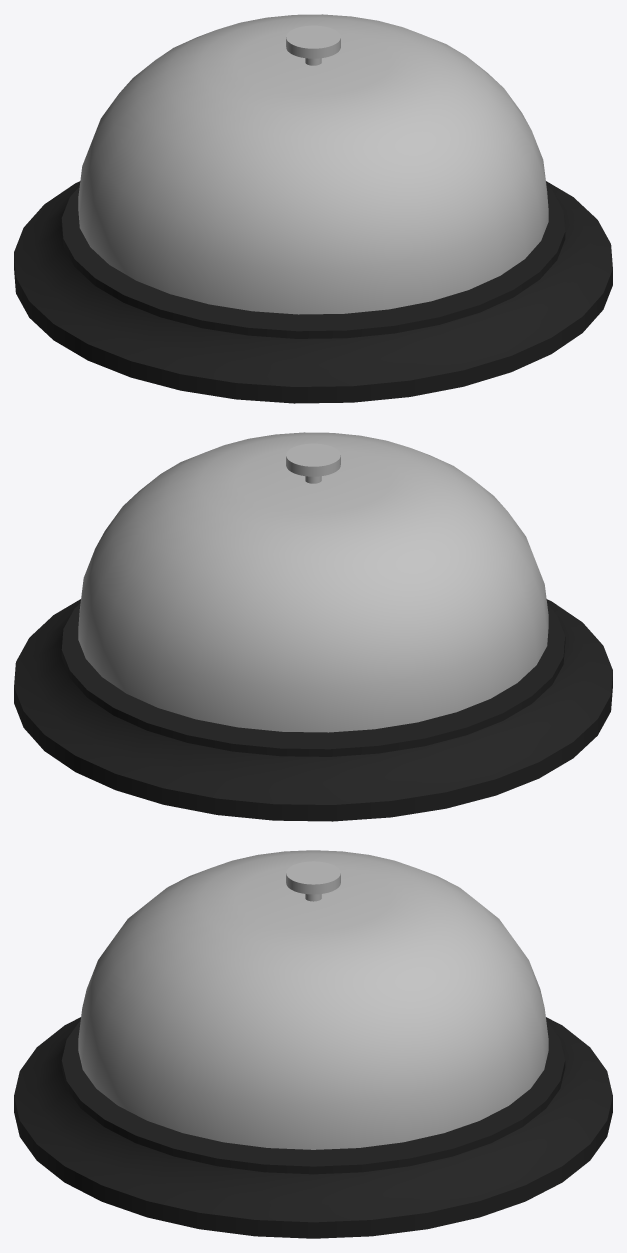
File: bellhop_bell.glb
3 renders of one model, top to bottom at view 1: azimuth 30°, elevation 25°; view 2: azimuth 150°, elevation 25°; view 3: azimuth 270°, elevation 25°, orthographic.
Visible parts, largest first — view 1: Circle.2411; view 2: Circle.2411; view 3: Circle.2411.
Part boxes in pixels (<box>): Circle.2411: <box>14,14,612,403</box>; Circle.2411: <box>14,432,612,821</box>; Circle.2411: <box>14,850,612,1238</box>.
Bounding box in the file's own units: 2.39 × 1.07 × 2.39.
Materials: 1 (1 with a texture image).
